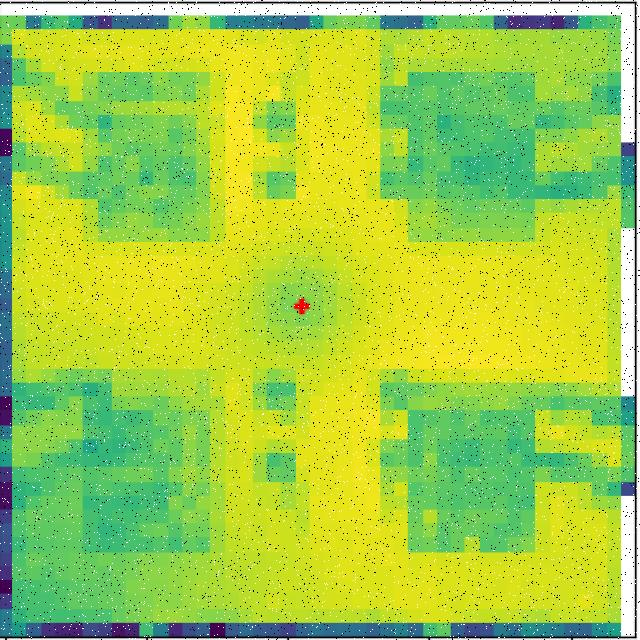Concrete: (406, 381, 536, 555)
Glass: (386, 66, 543, 246)
Metal: (77, 371, 216, 554)
Wood: (81, 71, 226, 245)
